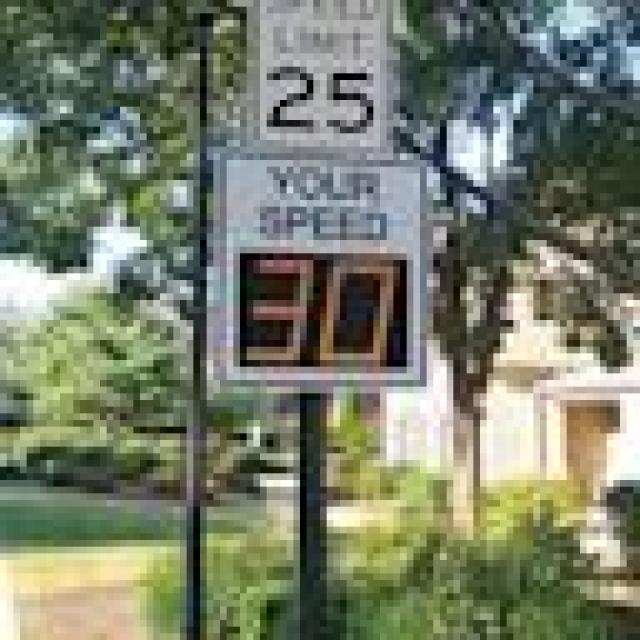speedLimit25: (253, 3, 387, 144)
